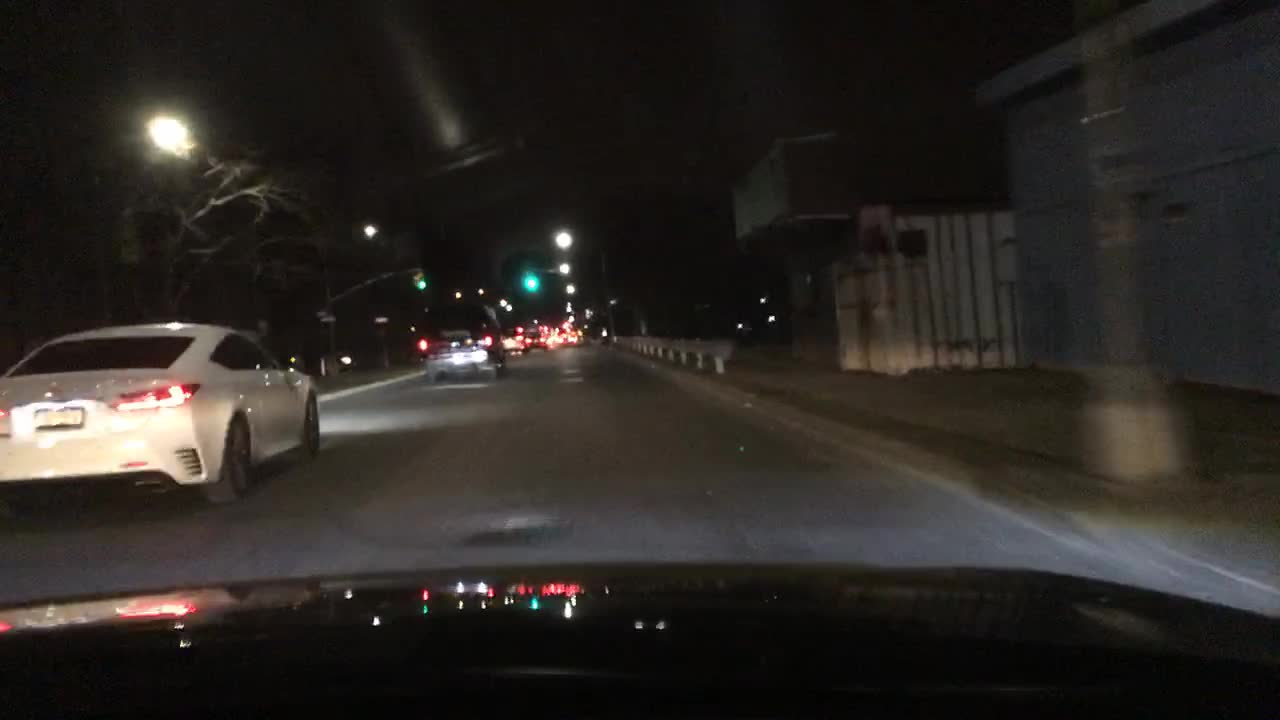car: (1, 322, 319, 504), (422, 303, 504, 378), (314, 348, 358, 375), (501, 327, 530, 353), (525, 325, 552, 348), (556, 327, 584, 346)
traffic light: (523, 272, 536, 290), (413, 271, 424, 288)
traffic sign: (317, 315, 336, 322), (315, 310, 336, 315)
